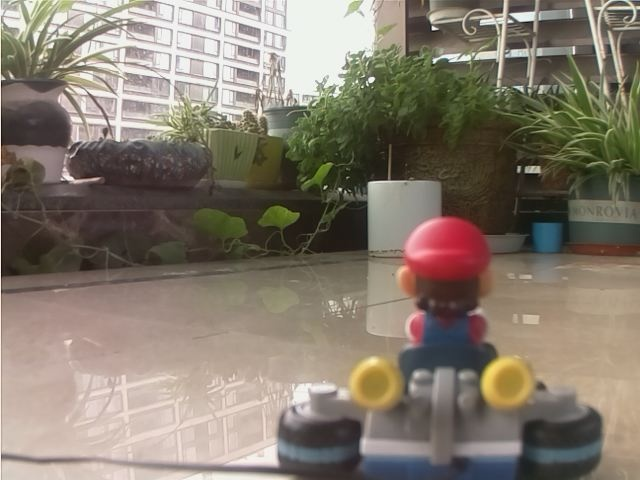mario: (270, 202, 610, 480)
